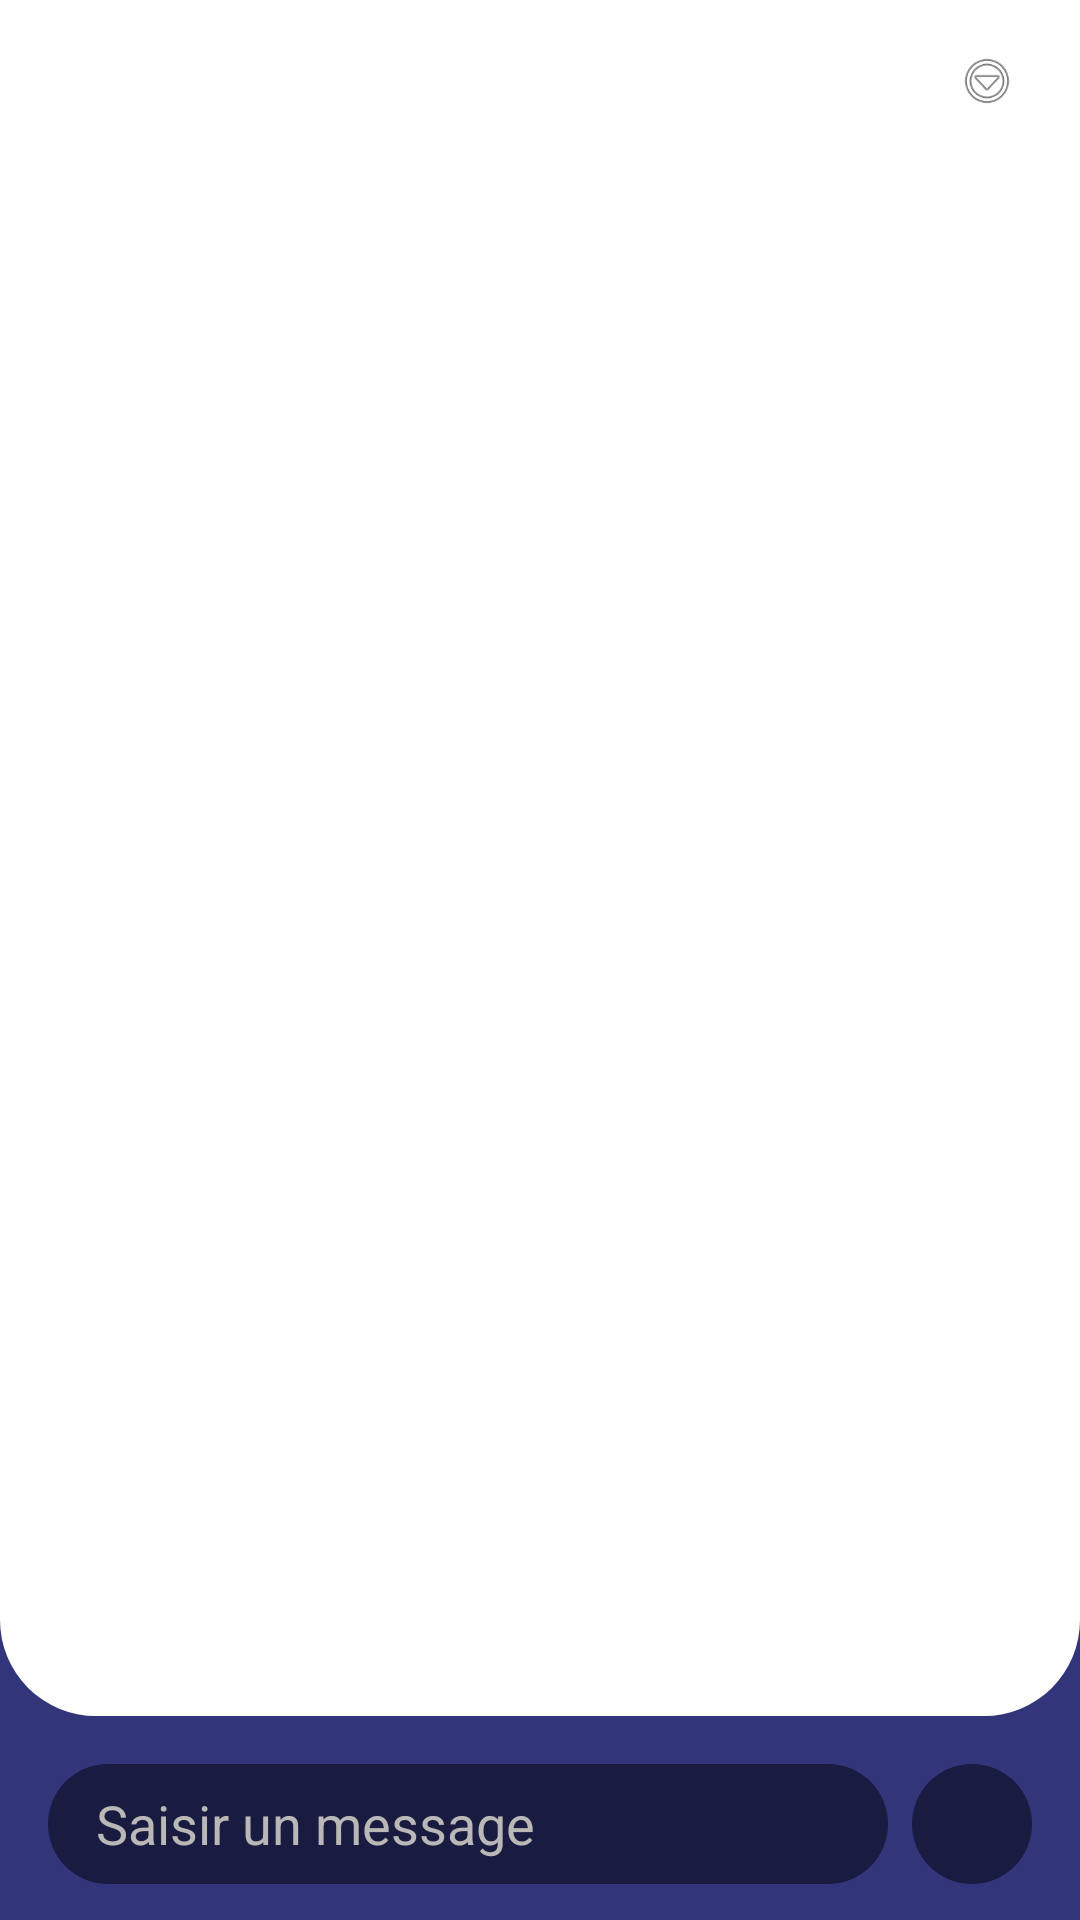

Named icons in this screenshot (1080w x 1920h) and their bounding boxes, (x1,y1,x2,y2):
more: (965,59,1009,103)
